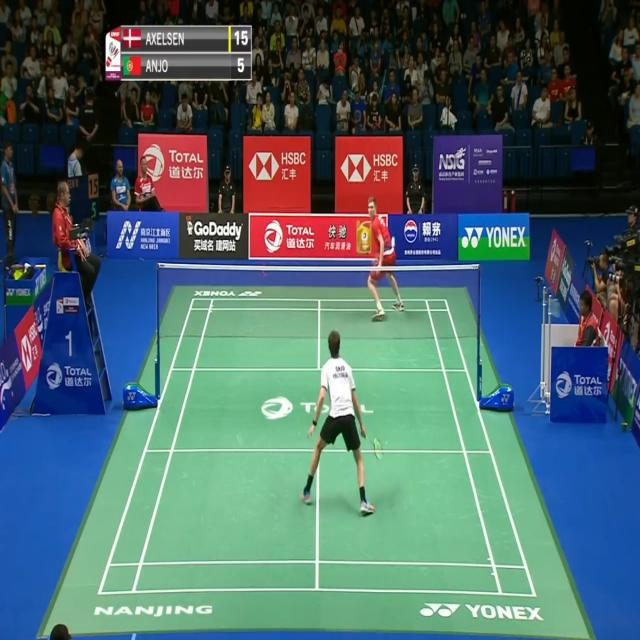Player1: (303, 330, 385, 514)
Player2: (364, 194, 406, 324)
